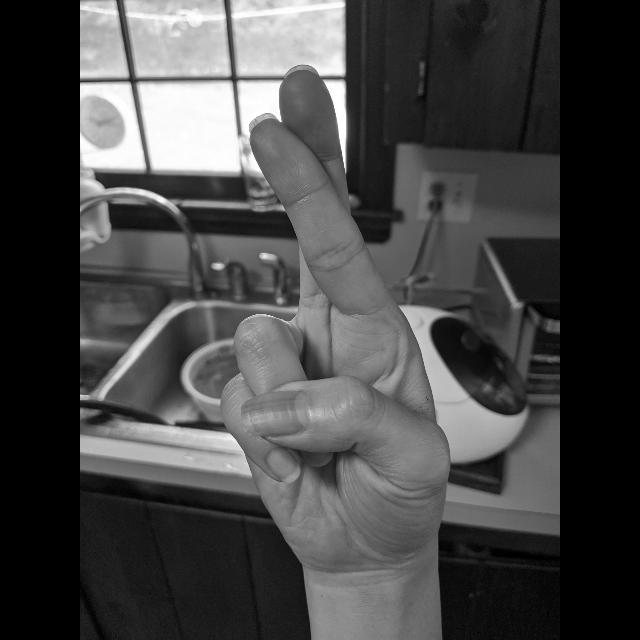R: (216, 60, 458, 582)
